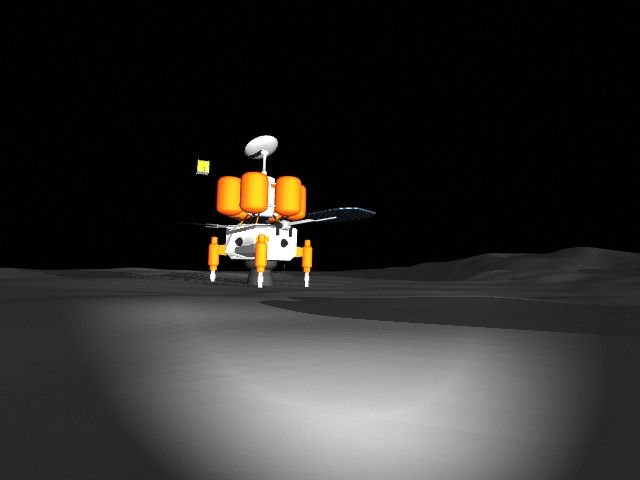cubesat: (195, 156, 212, 178)
